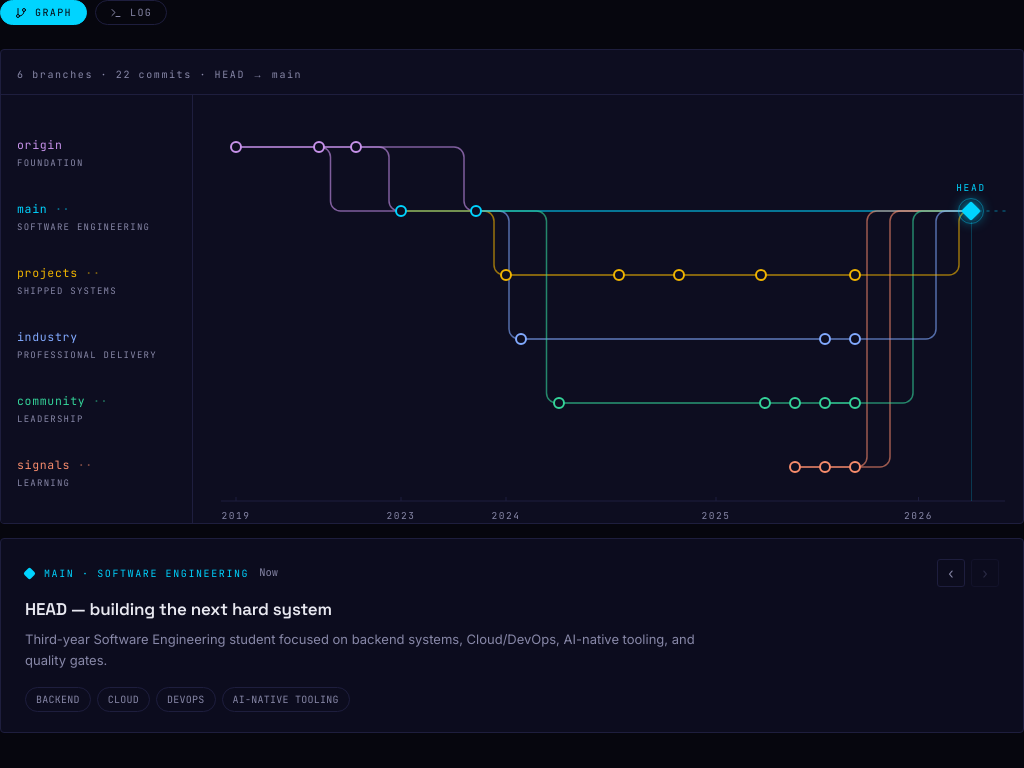
CareerViews › switches from the graph to a complete GitLens log
Click the button "log" at (131, 12), box [95,0,167,25]
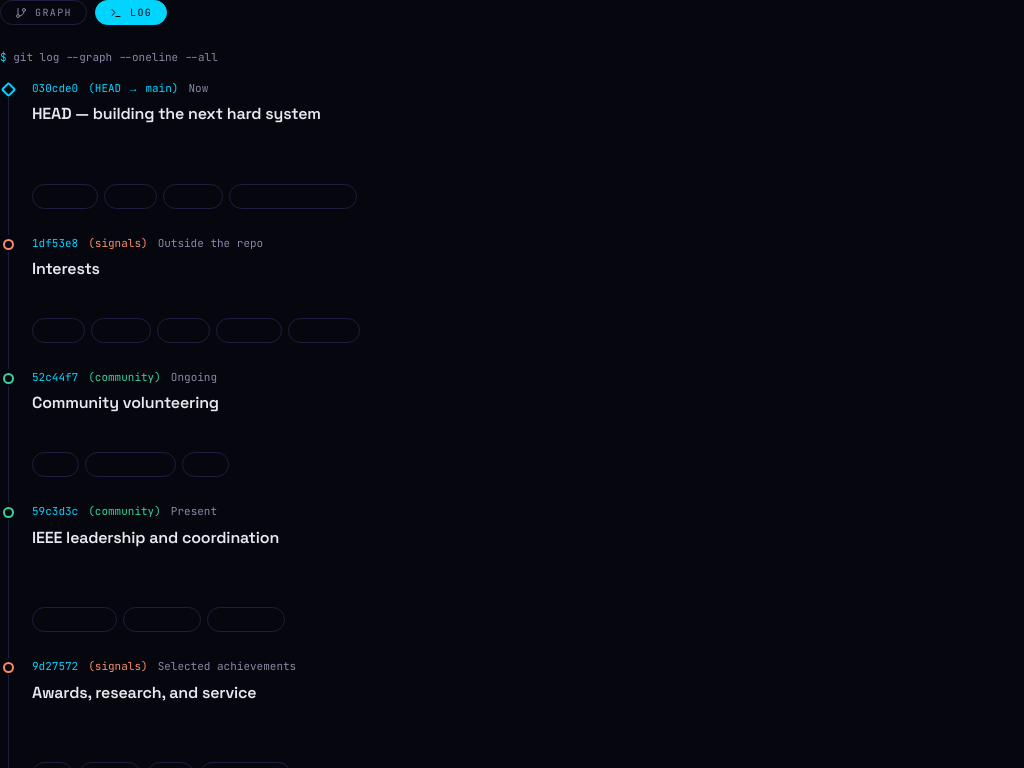
Expected: the heading "HEAD — building the next hard system" is shown, [32,103,321,124]
Expected: the text "$ git log --graph --oneline --all" is shown, [0,50,218,64]
